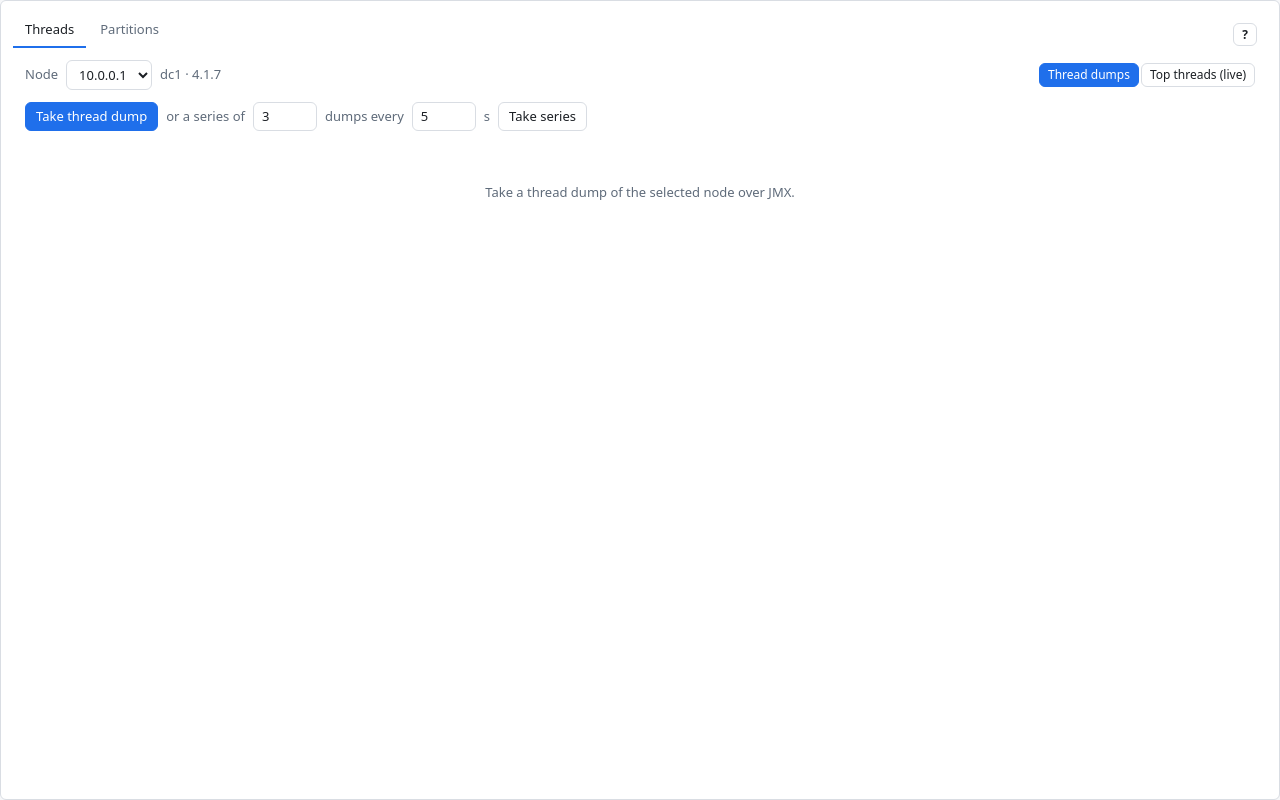
Test: DiagnosticsPanel › flags large partitions and tombstones in the histograms
Click the tab "Partitions" at (130, 30), box [88,13,171,48]
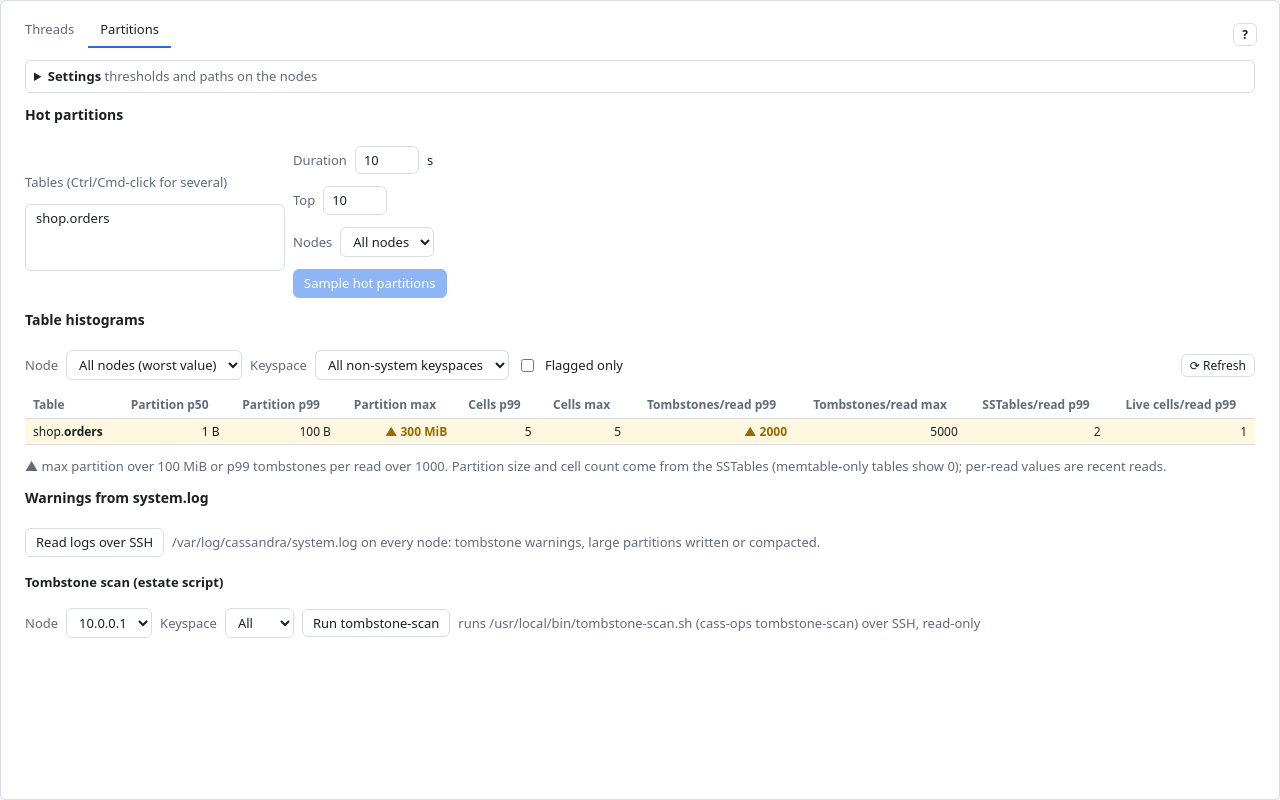
Expected: the option "shop.orders" is shown, [34,209,276,228]
Result: the number of elements with class "mon-warn-text" is 2 at [385,423,447,440]; [744,423,787,440]
Result: the table with test id "diag-hist-table" shows "300 MiB" at [400,423,447,440]
